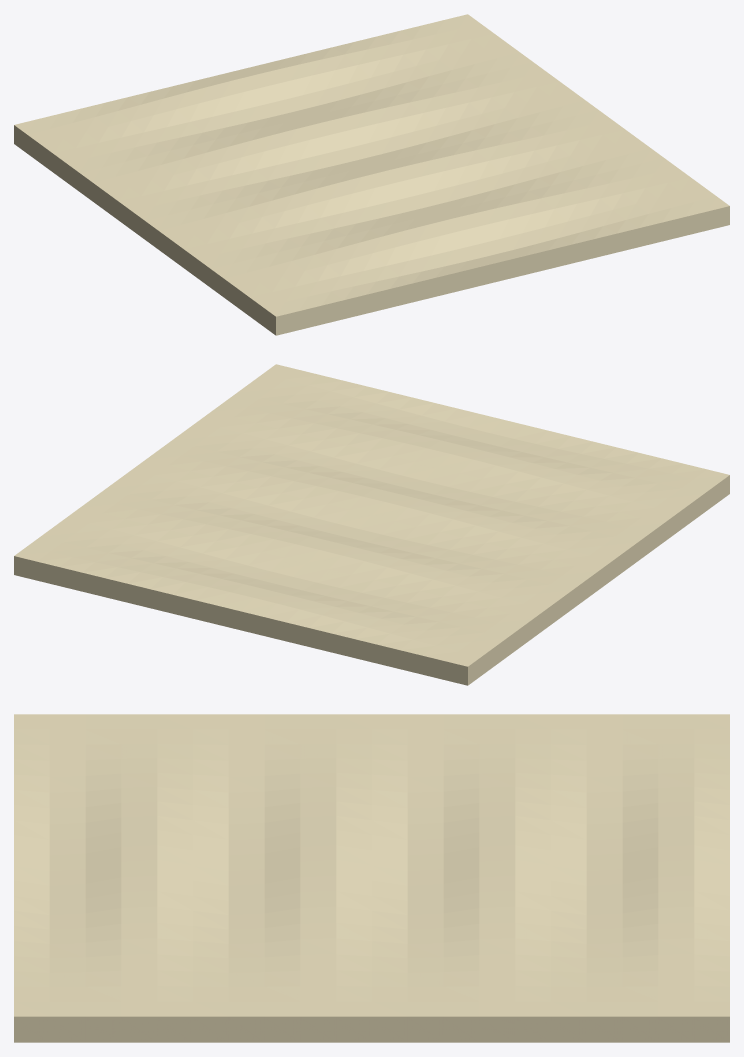
Rendered from underwater-reef-worlds-sand-ripple-tile-851cddcd__7054.glb.
The picture shows the model from 3 angles, top to bottom: view 1: azimuth 30°, elevation 25°; view 2: azimuth 150°, elevation 25°; view 3: azimuth 270°, elevation 25°; orthographic projection. The views are drawn at different scales.
Visible parts, largest first — view 1: sand-ripple-tile; view 2: sand-ripple-tile; view 3: sand-ripple-tile.
Boxes of the visible parts, x1,y1,x2,y2 form: sand-ripple-tile: [14, 14, 729, 335]; sand-ripple-tile: [14, 364, 729, 685]; sand-ripple-tile: [14, 714, 729, 1042].
Size of the model in its own units: 4 by 0.1934 by 4.
